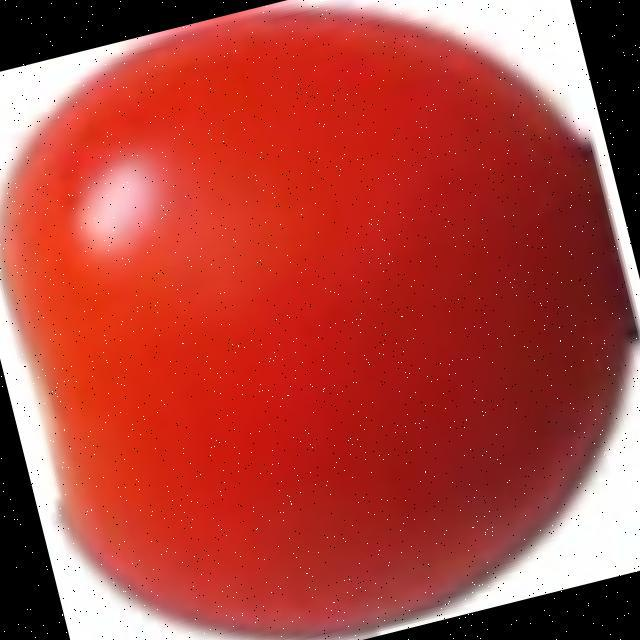tomato: (0, 16, 636, 634)
